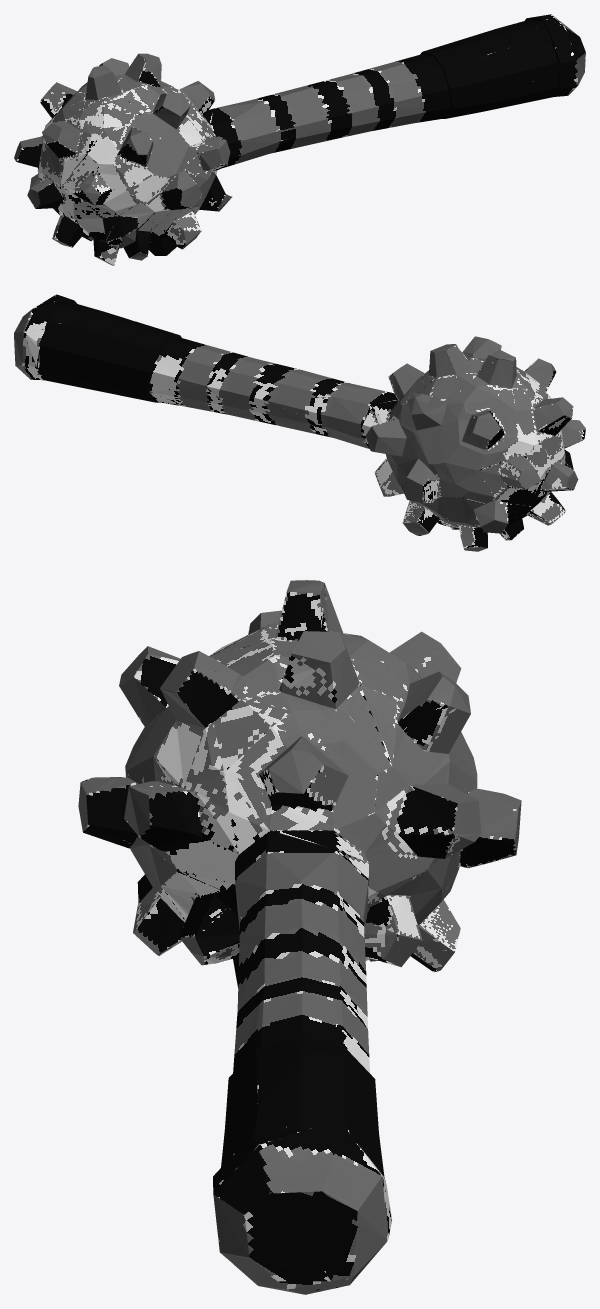
The picture shows the model from 3 angles, top to bottom: view 1: azimuth 30°, elevation 25°; view 2: azimuth 150°, elevation 25°; view 3: azimuth 270°, elevation 25°; orthographic projection. The views are drawn at different scales.
Visible parts, largest first — view 1: OBJ007; view 2: OBJ007; view 3: OBJ007.
Part boxes in pixels (box(x1,y1,x2,y2)): OBJ007: box(14, 14, 585, 265); OBJ007: box(14, 294, 585, 551); OBJ007: box(78, 580, 521, 1294).
Bounding box in the file's own units: 0.3736 × 0.1265 × 0.133.
Materials: 1 (1 with a texture image).
